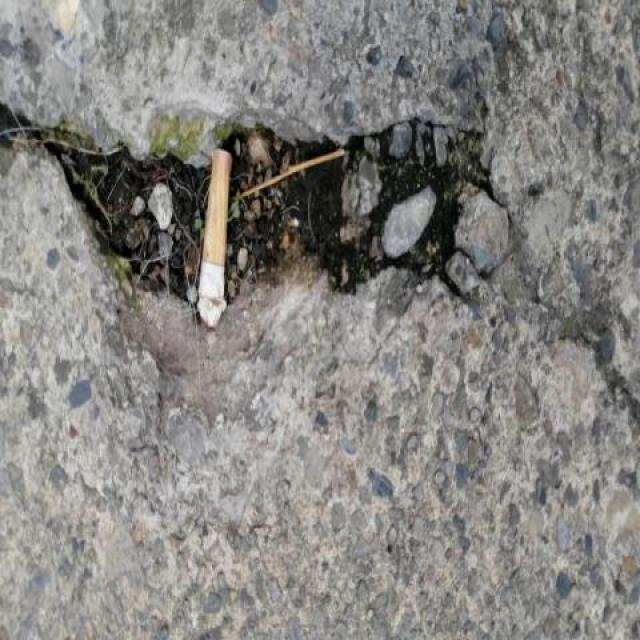non-organic waste: (186, 142, 242, 338)
